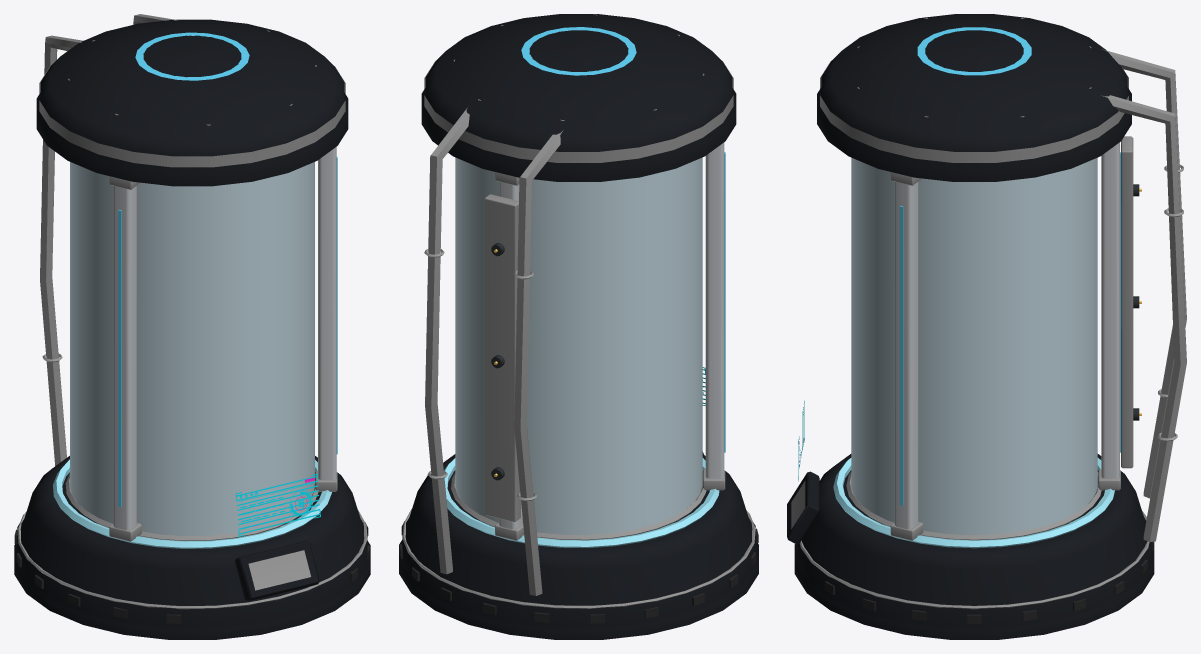
File: CryoPod.fbx
3 views of the same model, side by side, from view 1: azimuth 30°, elevation 25°; view 2: azimuth 150°, elevation 25°; view 3: azimuth 270°, elevation 25° (orthographic).
Visible parts, largest first — view 1: CryoPod_LOD0; view 2: CryoPod_LOD0; view 3: CryoPod_LOD0.
Boxes of the visible parts, <box> form: CryoPod_LOD0: <box>14,14,370,639</box>; CryoPod_LOD0: <box>399,14,758,639</box>; CryoPod_LOD0: <box>787,14,1186,639</box>.
Size of what is drawn, in the model's own units: 1.74 by 2.76 by 1.94.
